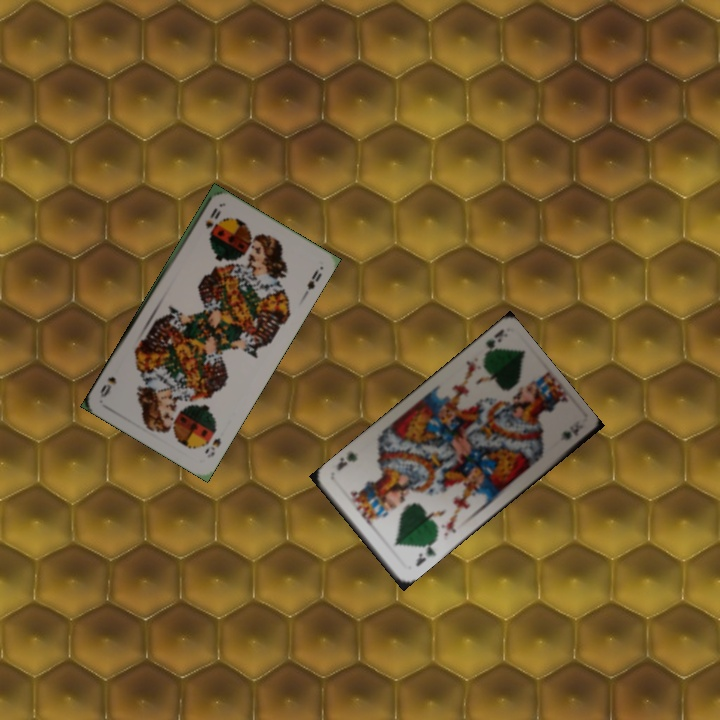GK: (478, 326, 507, 363), (411, 538, 439, 569)
SO: (200, 434, 223, 460), (201, 204, 220, 232)
